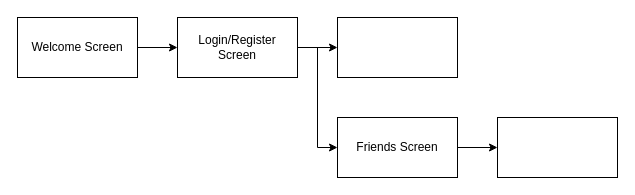
Some shapes in this 635 by 195 pixel diagram are drawn without their labels. Each missing label, with the centre of its shape:
"Messaging Screen" goes at pixel 557 147.
"Profile Screen" goes at pixel 397 47.
